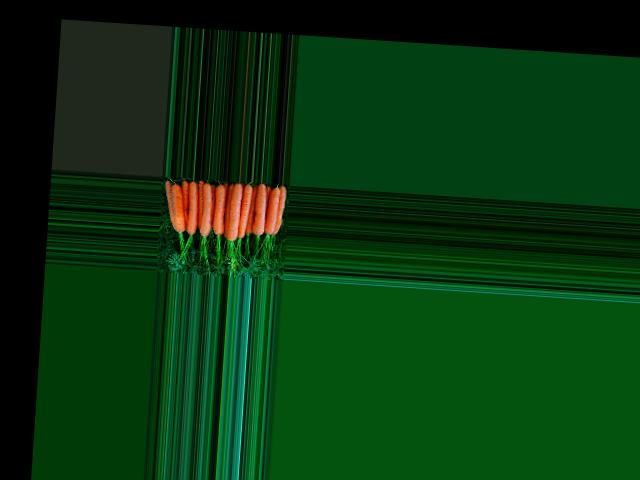carrot: (274, 183, 285, 234)
